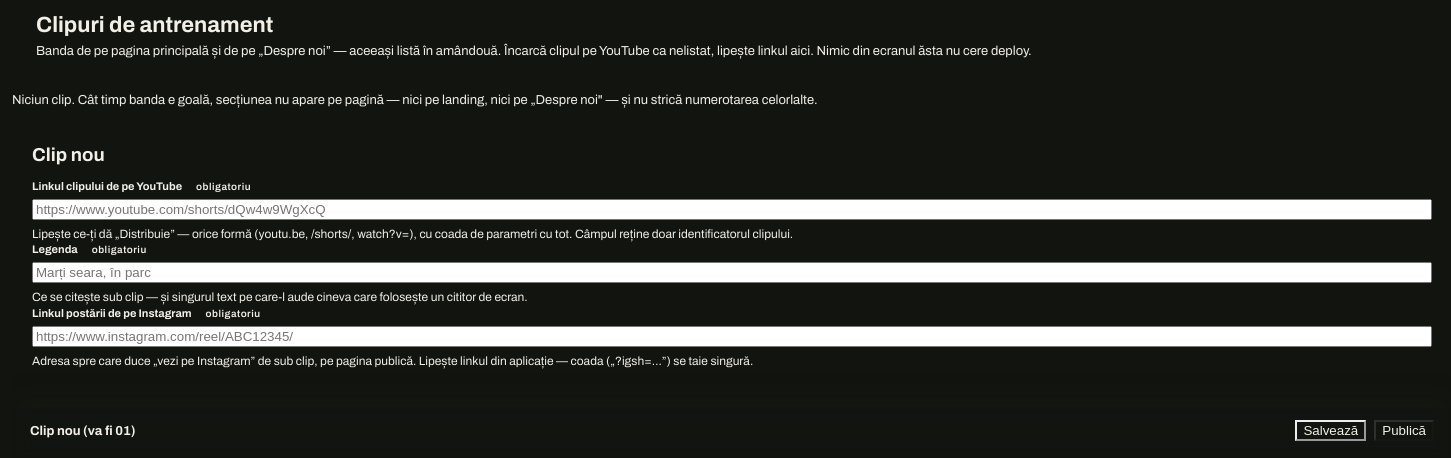
Test: linkul lipit din Instagram › își pierde coada de urmărire la lipire
Check: the text "Niciun clip" is shown, box top-left (12, 93), bottom-right (818, 107)
In the field labelled "Linkul postării": (732, 336) top-left (32, 326), bottom-right (1432, 347), type "https://www.instagram.com/reel/ABC12345/?igsh=MXY123abc"
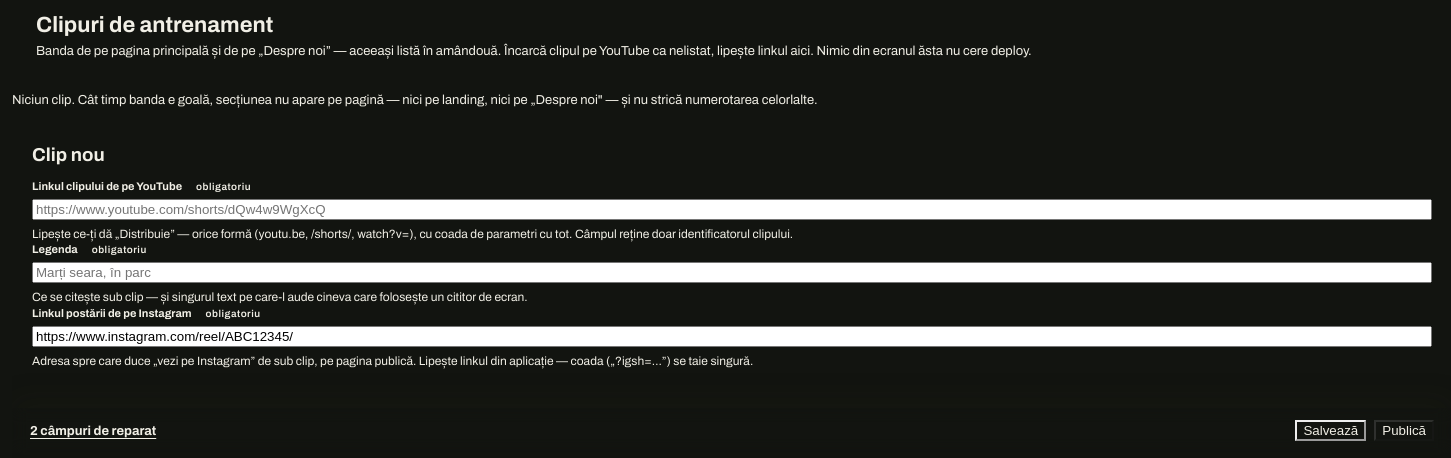
Check: the field labelled "Linkul postării" holds "https://www.instagram.com/reel/ABC12345/", box top-left (32, 326), bottom-right (1432, 347)
